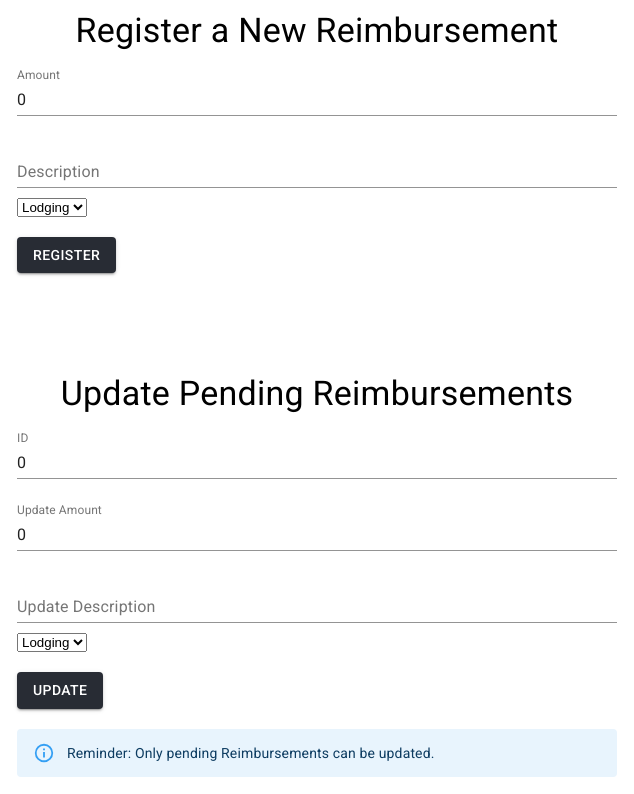
it: UserReimbursementComponent › Typing into input.uAmount should reflect in uAmount state
Replace the text in the number field with id "uAmount" with "top-secret" at (317, 536), box left=17, top=520, right=617, bottom=552
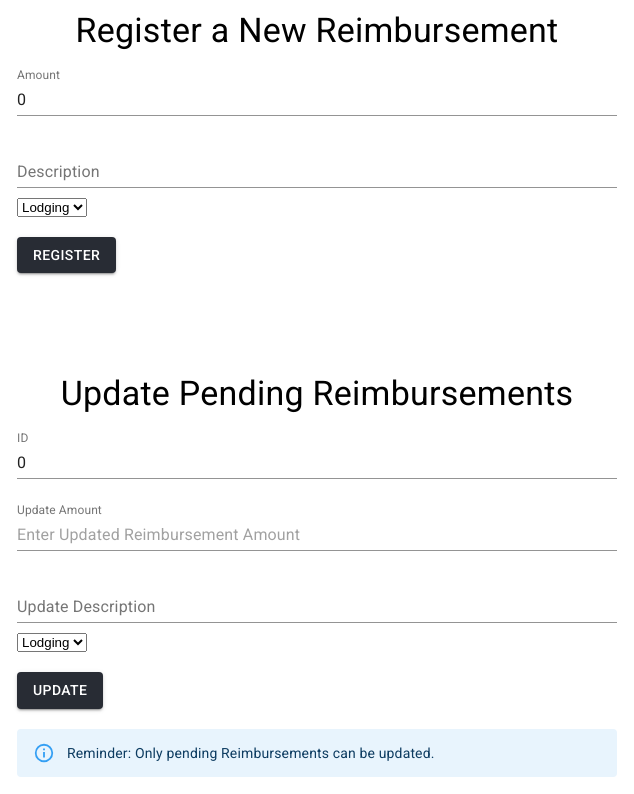
Expected: the number field with id "uAmount" holds "top-secret", left=17, top=520, right=617, bottom=552
